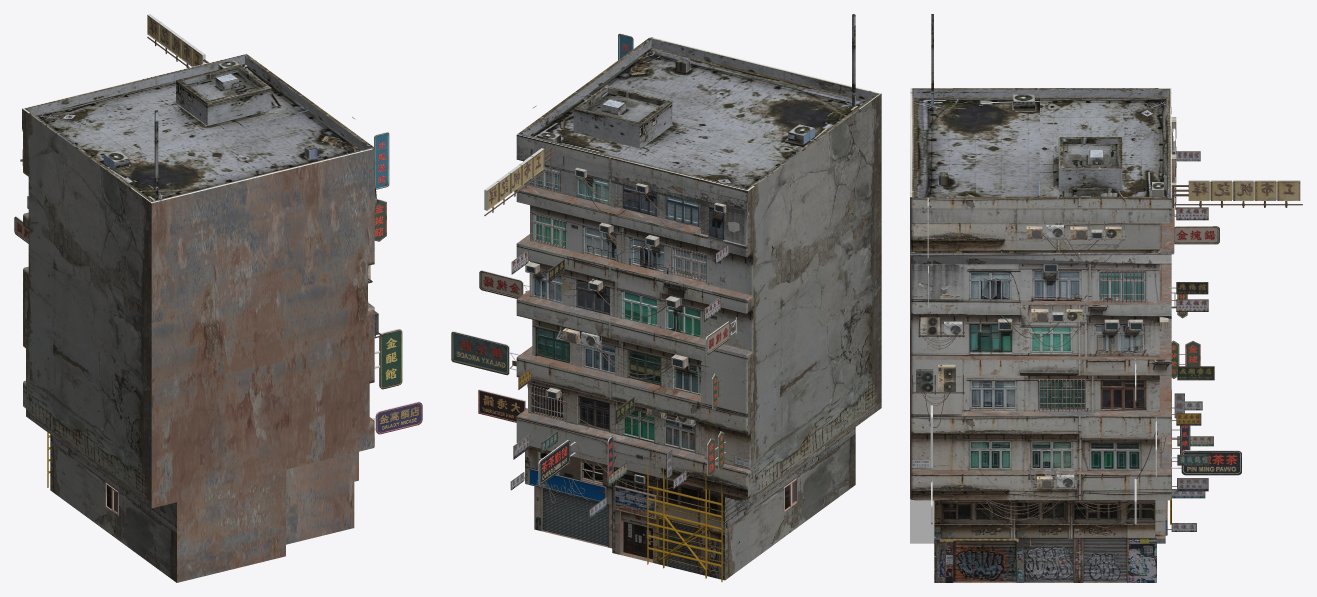
The picture shows the model from 3 angles, left to right: view 1: azimuth 30°, elevation 25°; view 2: azimuth 150°, elevation 25°; view 3: azimuth 270°, elevation 25°; orthographic projection. The views are drawn at different scales.
Visible parts, largest first — view 1: Cube.047; view 2: Cube.047; view 3: Cube.047.
Boxes of the visible parts, x1=… form: Cube.047: x1=14, y1=14, x2=422, y2=582; Cube.047: x1=451, y1=14, x2=881, y2=581; Cube.047: x1=910, y1=14, x2=1302, y2=582.
Bounding box in the file's own units: 2.63 × 3.97 × 3.
Materials: 13 (10 with a texture image).
